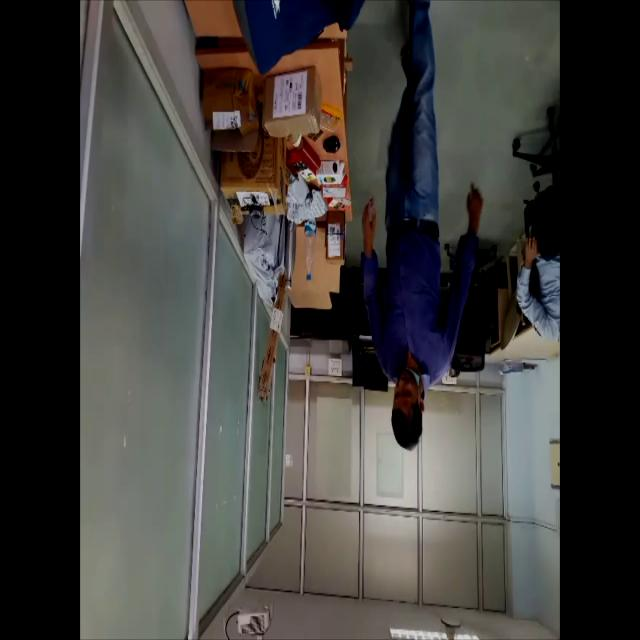normal: (360, 0, 487, 463)
